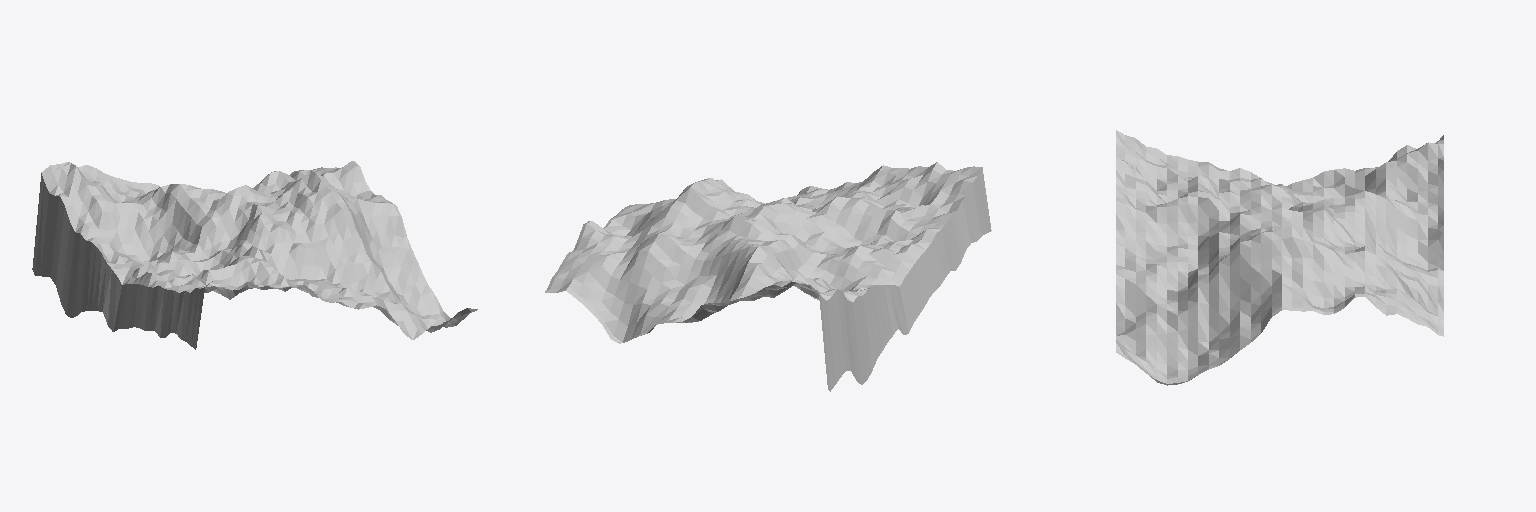
File: terrain_4_0.obj
3 renders of one model, left to right at view 1: azimuth 30°, elevation 25°; view 2: azimuth 150°, elevation 25°; view 3: azimuth 270°, elevation 25°, orthographic.
Visible parts, largest first — view 1: terrain_4_0_Plane.009; view 2: terrain_4_0_Plane.009; view 3: terrain_4_0_Plane.009.
Part boxes in pixels (x1,y1,x2,y2): terrain_4_0_Plane.009: (32,161,477,349); terrain_4_0_Plane.009: (545,162,991,391); terrain_4_0_Plane.009: (1116,130,1443,385).
Size of the model in its own units: 32 by 13.38 by 32.